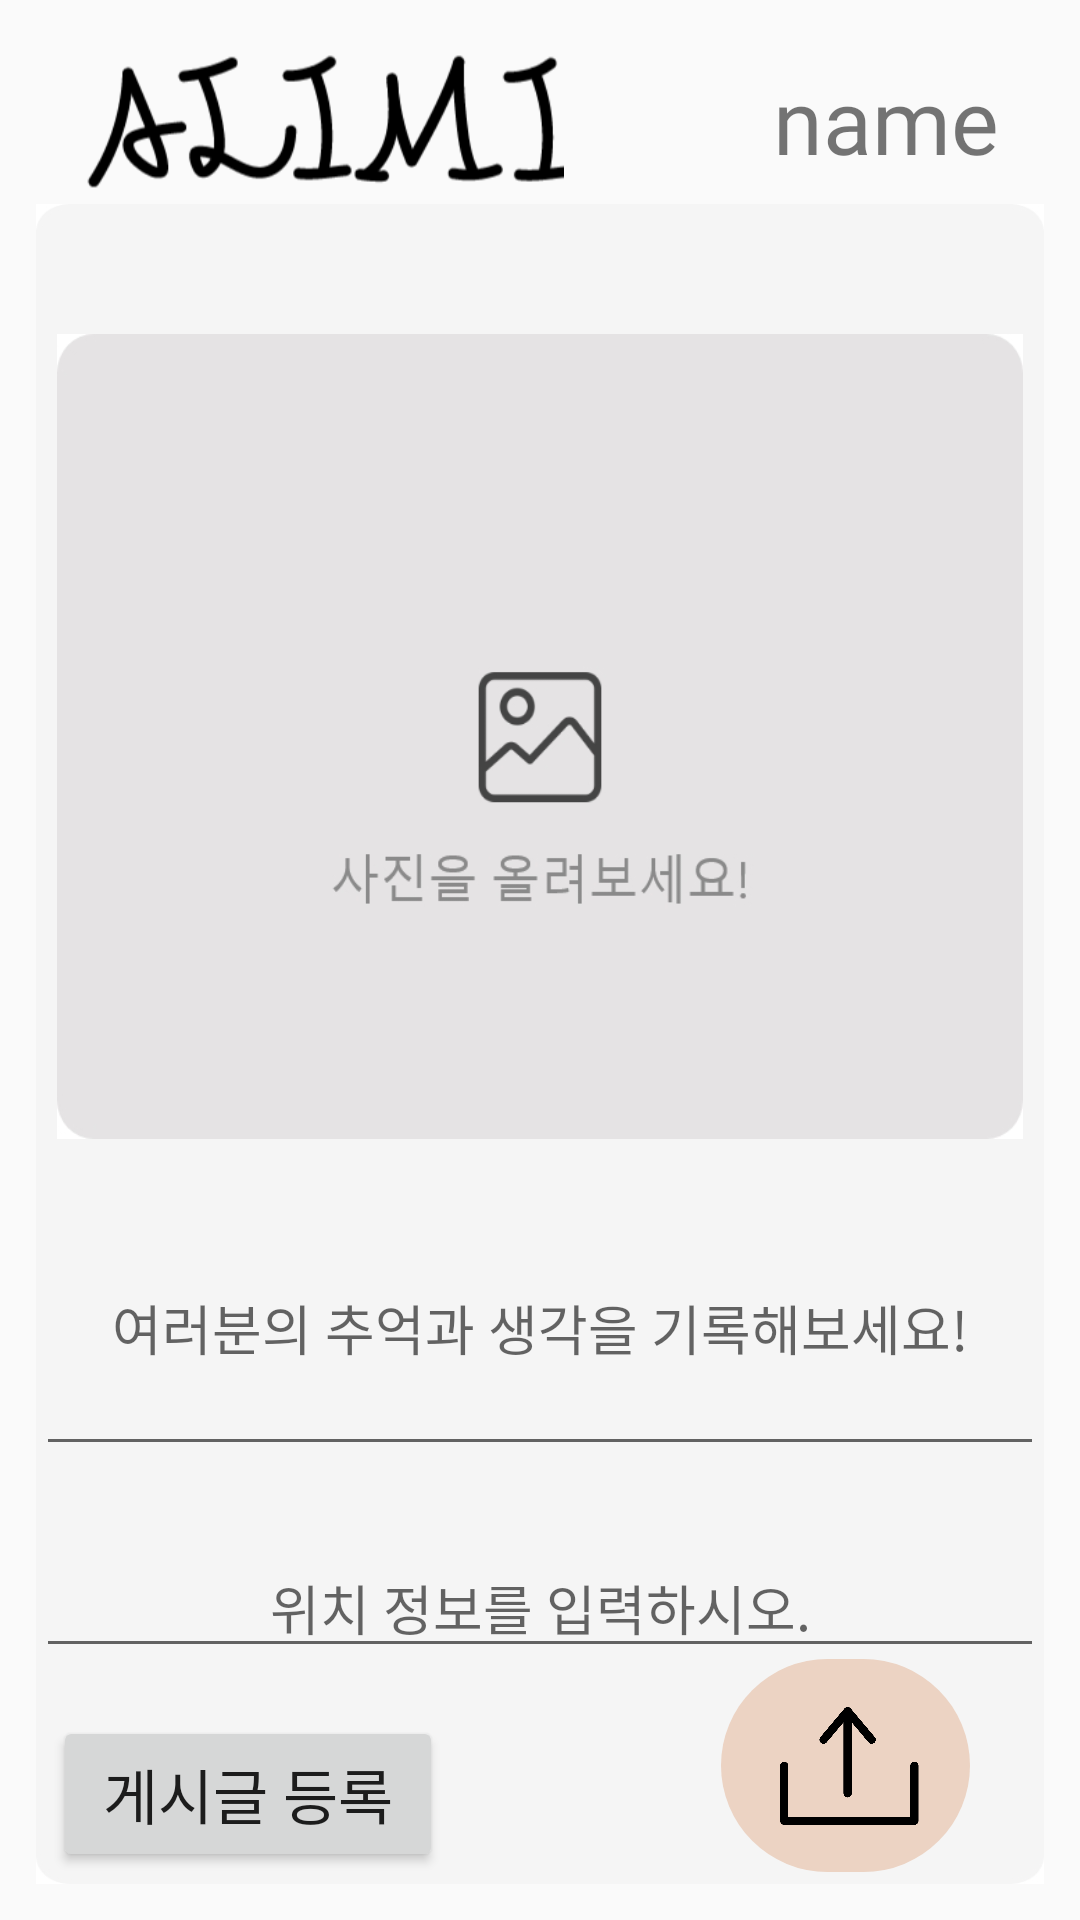

Named icons in this screenshot (1080 × 1920) and their bounding boxes, bbox=(x1, y1, x2, y2):
upload: bbox=(721, 1659, 970, 1872)
